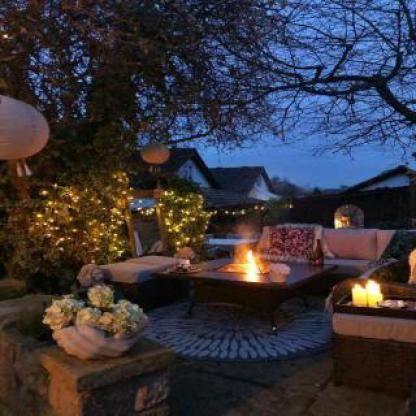fire: (232, 244, 272, 282), (348, 276, 379, 288)
